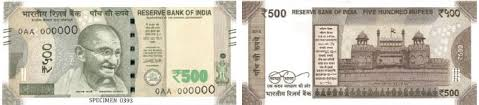fiveHundred: (12, 16, 221, 87)
